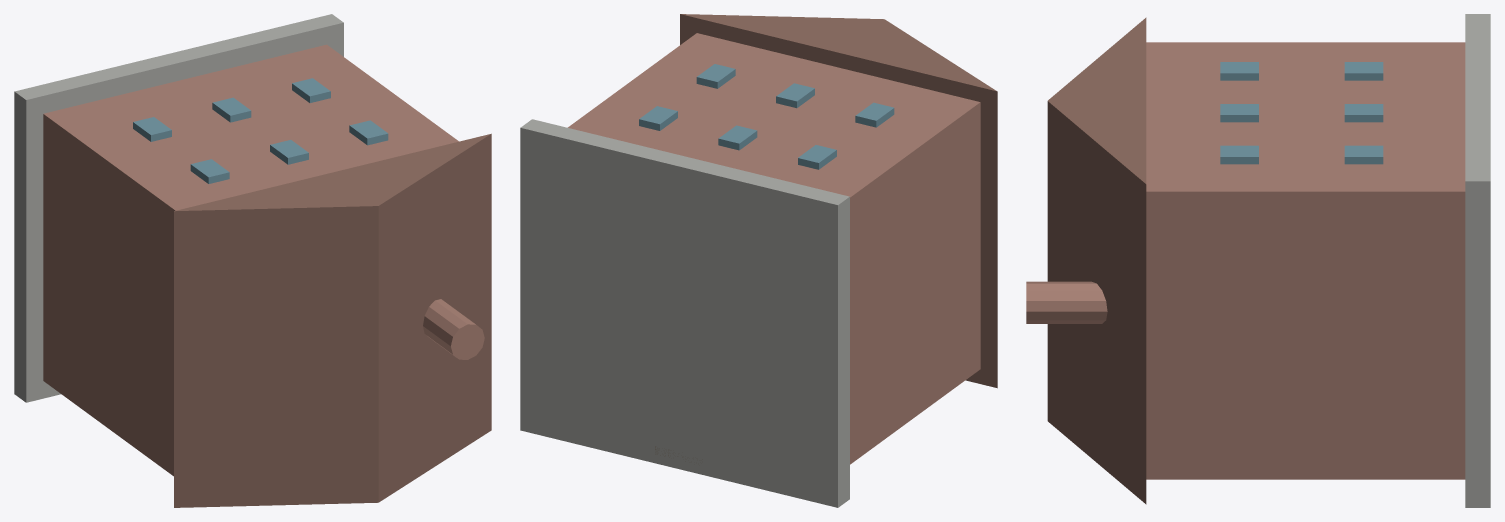
The model's file is AGE_IV_residential.glb.
The picture shows the model from 3 angles, left to right: view 1: azimuth 30°, elevation 25°; view 2: azimuth 150°, elevation 25°; view 3: azimuth 270°, elevation 25°; orthographic projection. The views are drawn at different scales.
Parts seen in each view (by area): view 1: world; view 2: world; view 3: world.
Boxes of the visible parts, x1,y1,x2,y2 form: world: [14, 14, 491, 507]; world: [520, 14, 997, 507]; world: [1026, 14, 1490, 507].
Size of the model in its own units: 5.6 by 5.1 by 6.57.
